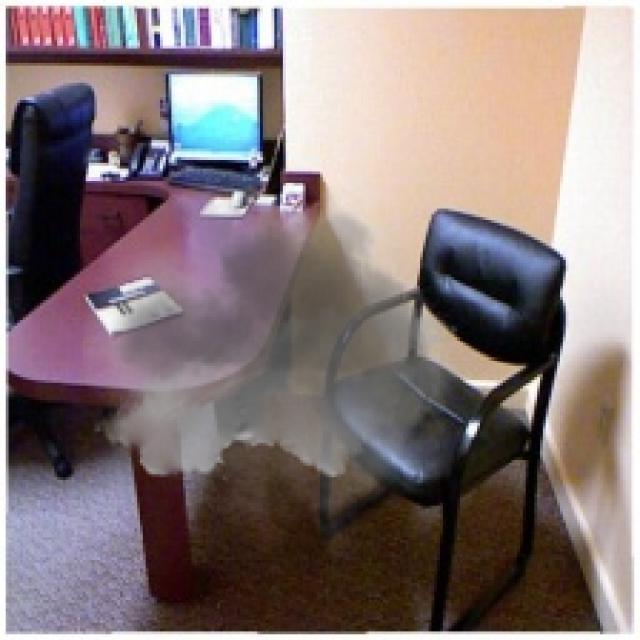smoke: (80, 163, 471, 557)
